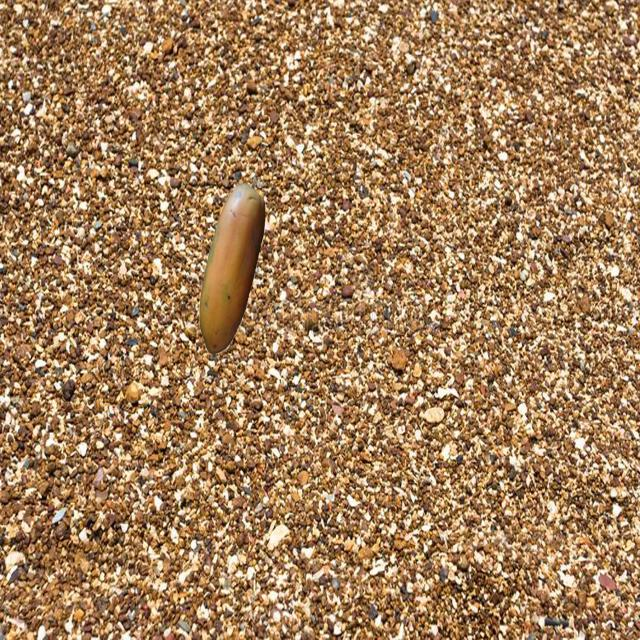Pepaya rippen: (195, 178, 268, 366)
